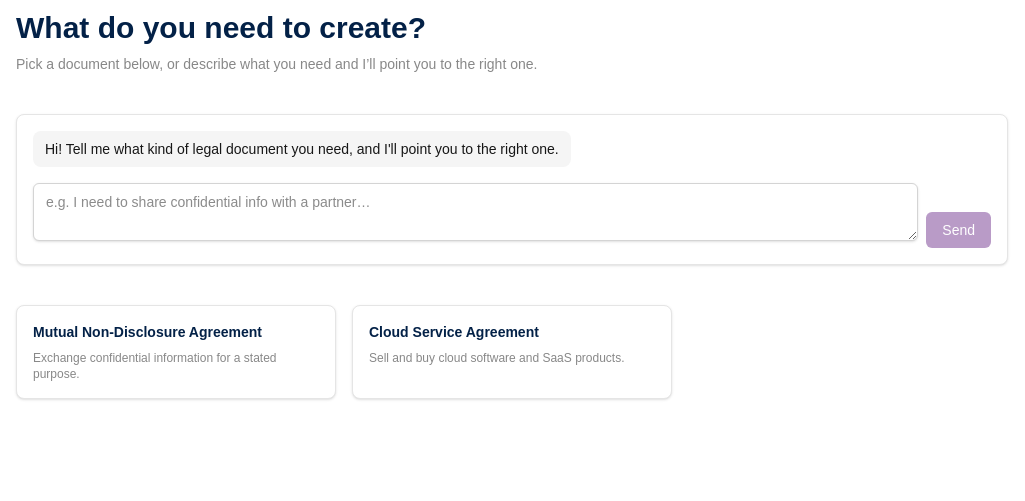
Test: DocumentPicker › shows an error message when the match request fails
In the text box named "Message": x=476, y=212 x1=33 y1=183 x2=918 y2=241, type "Hello"
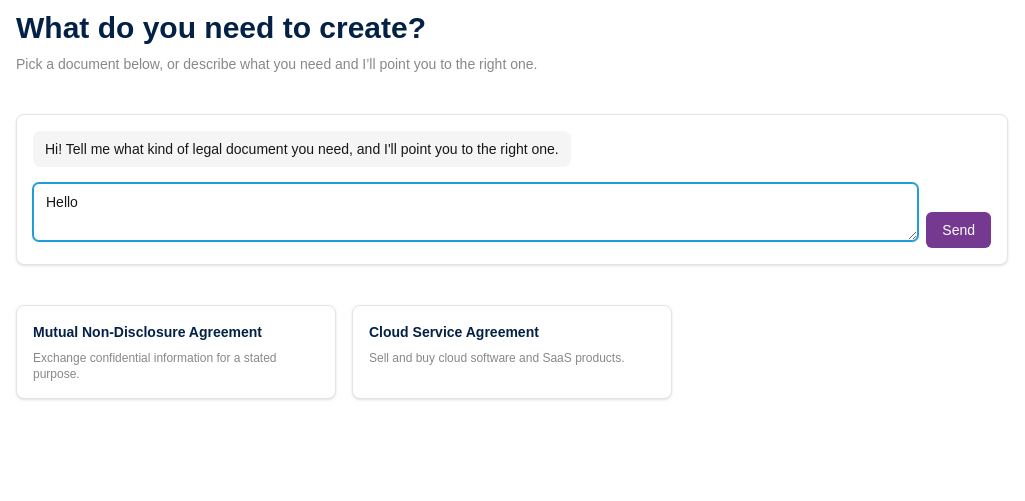
Click the button "Send": x=959, y=230 x1=926 y1=212 x2=991 y2=248
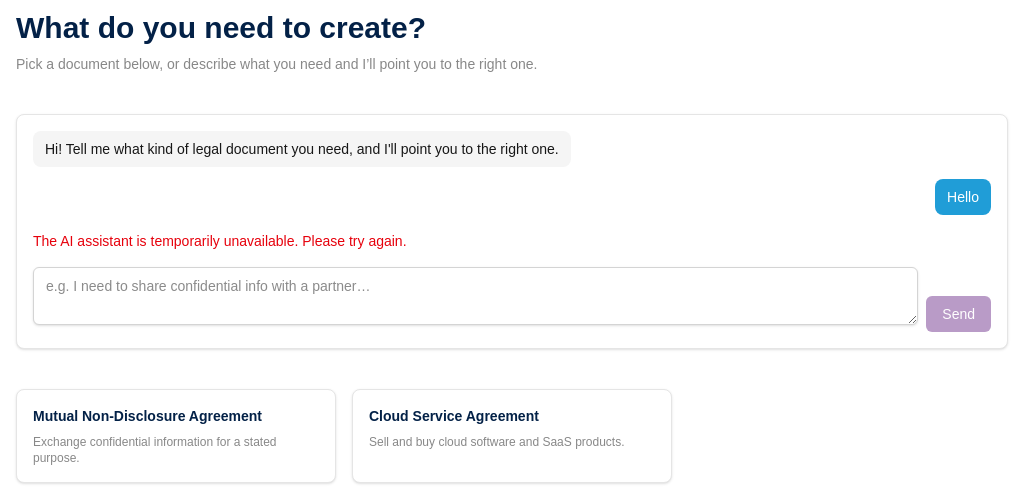
Result: the text "The AI assistant is temporarily unavailable. Please try again." is shown at x1=33 y1=233 x2=406 y2=249
